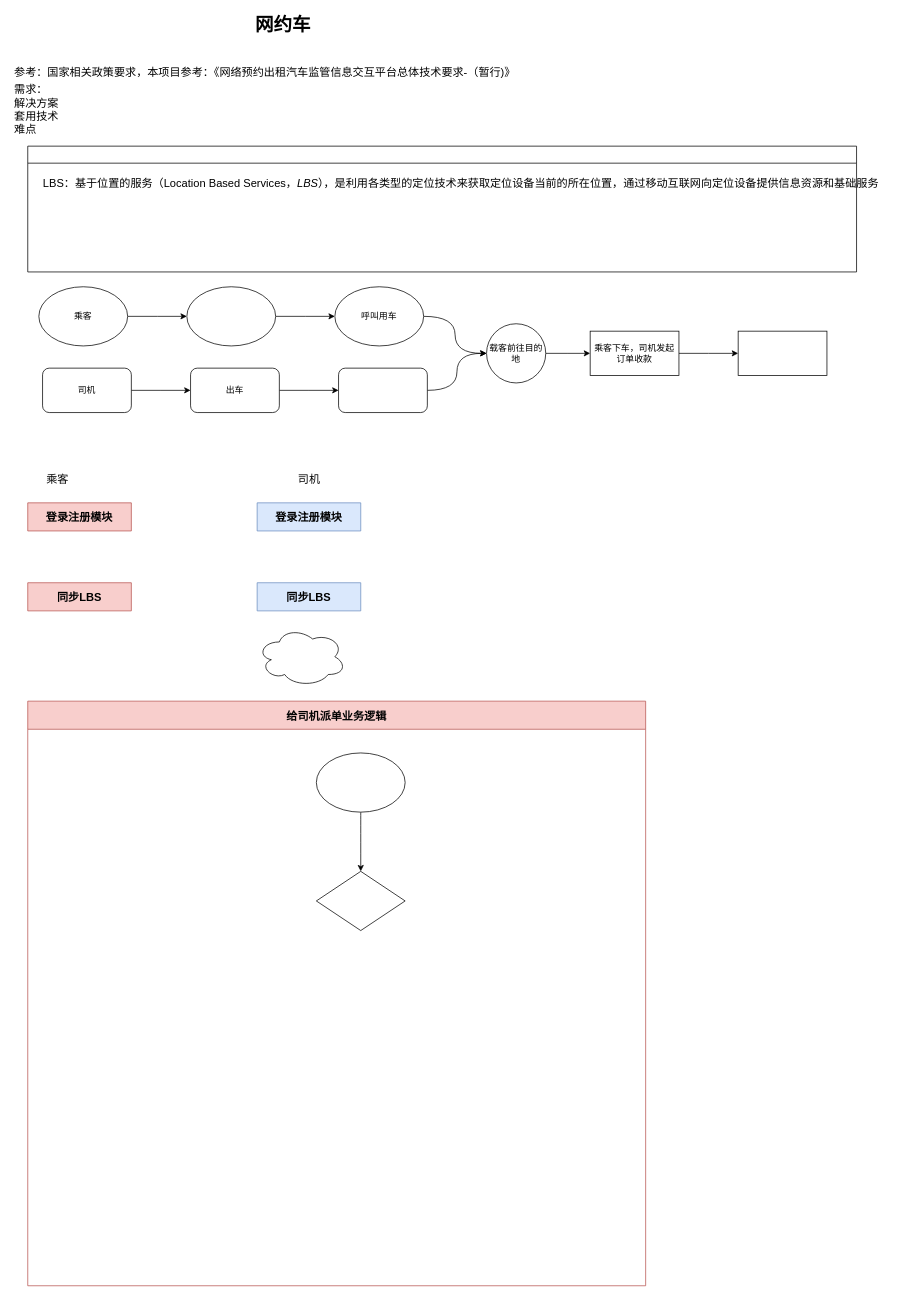
This 898x1299 diagram has some shape labels left out. Each missing label, with the box of its shape:
乘客选择支付方式付钱: (737, 330, 827, 376)
名词解释: (27, 145, 857, 272)
填写出发地&目的地: (186, 286, 276, 346)
开始: (316, 752, 405, 812)
接单/系统派单/抢单: (338, 367, 427, 413)
